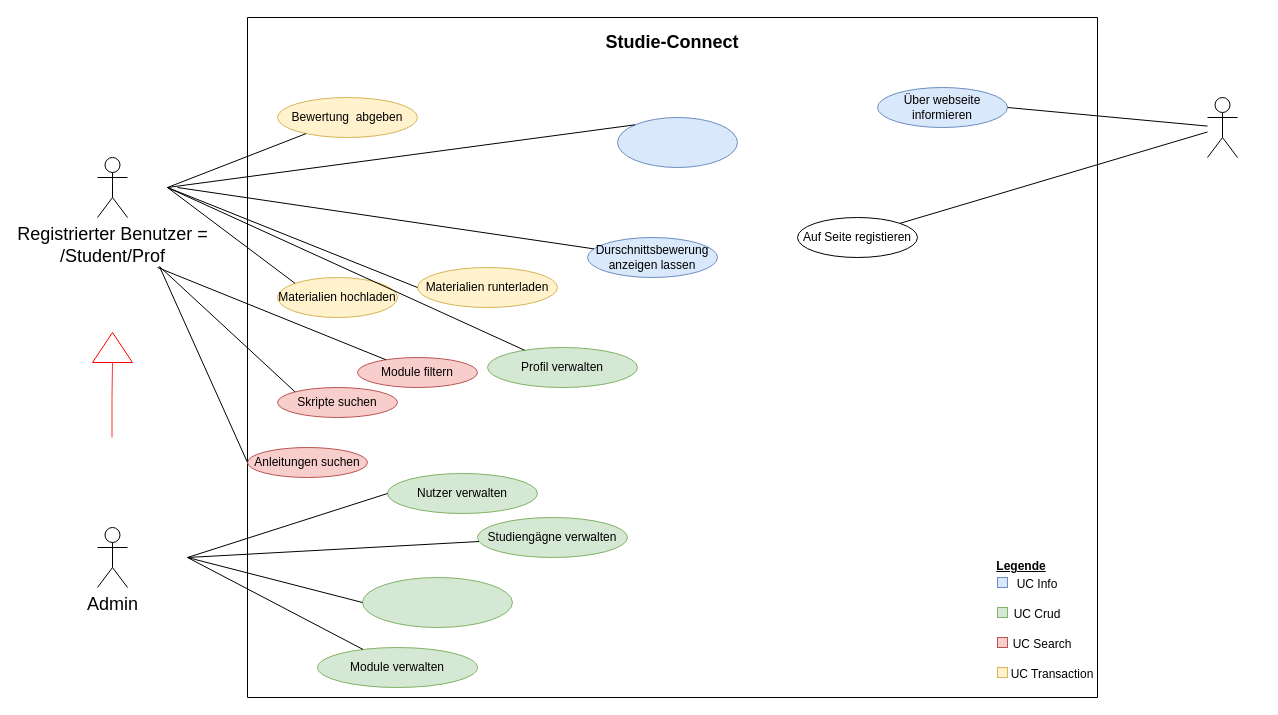
The diagram is 1278 pixels wide and 715 high, and some of its shapes have lost their labels. Here are the shapes that lost their labels. From the top down, the centre of each, then its label:
the point at 677,142: Kontaktdaten von Dozenten einsehen
the point at 1222,127: Besucher
the point at 437,602: Anleitungen/Skritpe verwalten
